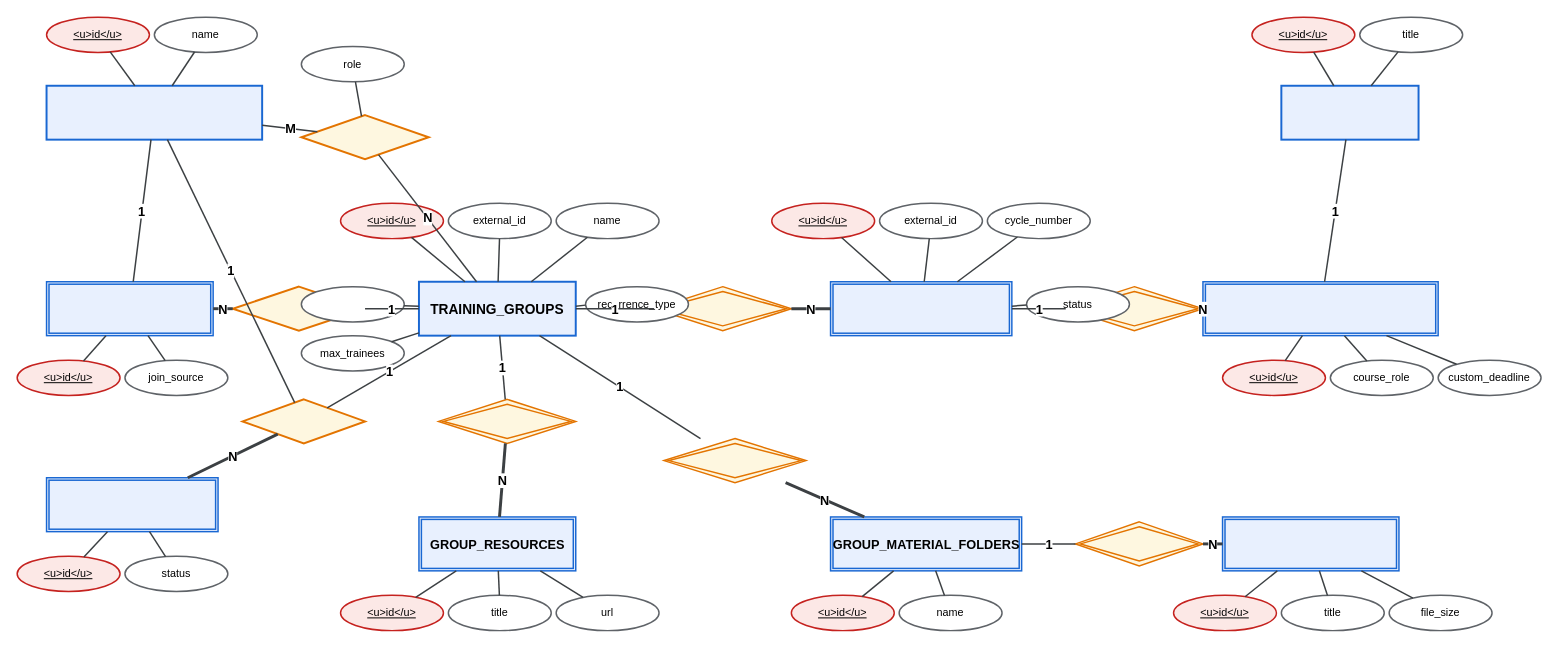
The diagram is 1559 pixels wide and 649 high, and some of its shapes have lost their labels. The shapes that lost their labels are listed below. From the top down, each one's box as (x1, y1, x2, y2) in pixels, then its label:
(45, 84, 263, 140): USERS (Trainees & Supervisors)
(1280, 84, 1419, 140): COURSES
(300, 114, 429, 160): SUPERVISED_BY
(45, 281, 213, 336): GROUP_MEMBERSHIPS
(231, 285, 366, 331): ENROLLS_MEMBER
(300, 285, 405, 322): enrollment_code
(653, 285, 792, 331): EXECUTES_CYCLE
(829, 281, 1012, 336): GROUP_RENEWAL_CYCLES
(1065, 285, 1203, 331): SCHEDULES_COURSE
(1202, 281, 1438, 336): GROUP_CYCLE_COURSE_ASSIGNMENTS
(241, 398, 366, 444): REQUESTS_JOIN
(437, 398, 576, 444): SHARES_RESOURCE
(663, 437, 806, 483): ORGANIZES_FOLDER
(45, 477, 218, 532): GROUP_JOIN_REQUESTS
(1074, 521, 1203, 566): CONTAINS_FILE
(1221, 516, 1399, 571): GROUP_MATERIAL_FILES
